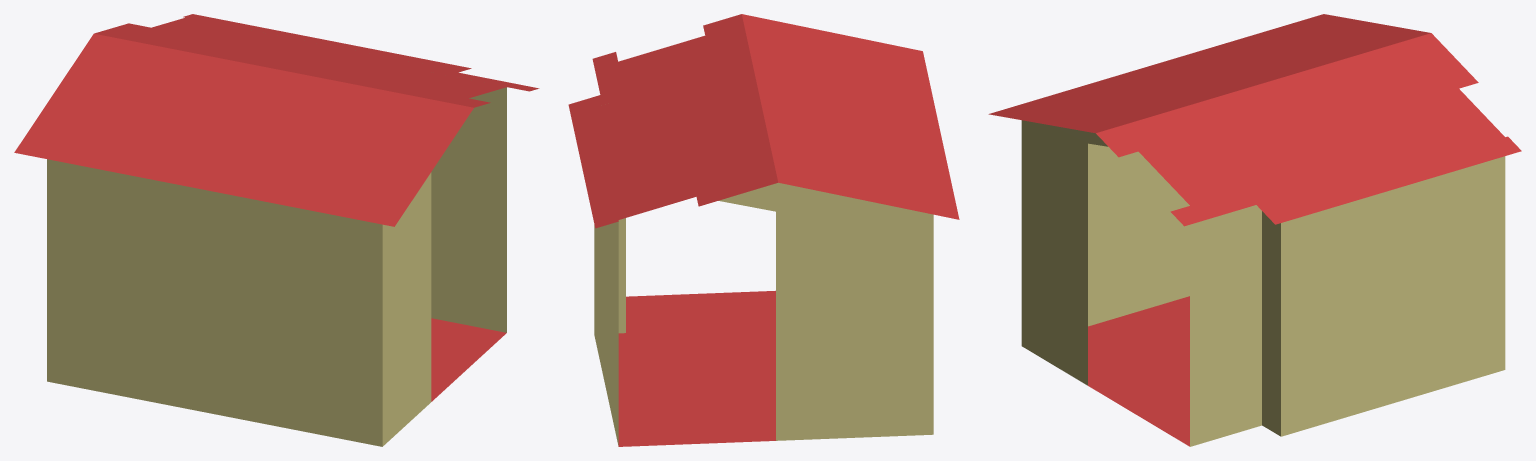
The picture shows the model from 3 angles, left to right: view 1: azimuth 30°, elevation 25°; view 2: azimuth 150°, elevation 25°; view 3: azimuth 270°, elevation 25°; orthographic projection. The views are drawn at different scales.
Bounding box in the file's own units: 15.93 × 16.51 × 9.38.
